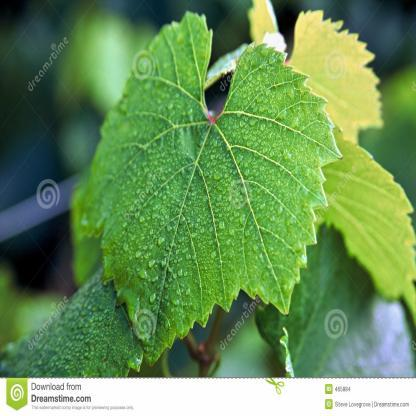grape leaf black rot: (84, 16, 332, 366)
